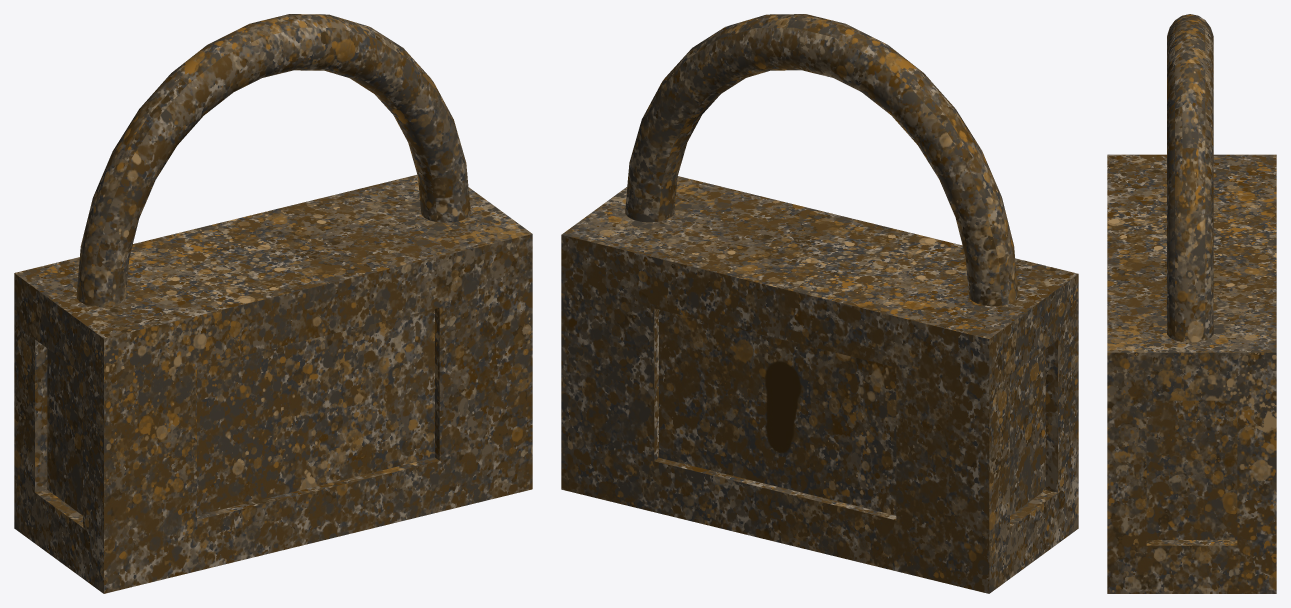
Rendered from Padlock.FBX.
3 views of the same model, side by side, from view 1: azimuth 30°, elevation 25°; view 2: azimuth 150°, elevation 25°; view 3: azimuth 270°, elevation 25° (orthographic). The views are drawn at different scales.
Parts seen in each view (by area): view 1: Cylinder001; view 2: Cylinder001; view 3: Cylinder001.
Part boxes in pixels (bbox=[...]): Cylinder001: bbox=[14, 14, 532, 593]; Cylinder001: bbox=[561, 14, 1078, 593]; Cylinder001: bbox=[1107, 14, 1276, 593].
Size of the model in its own units: 8.79 by 9.58 by 3.18.
